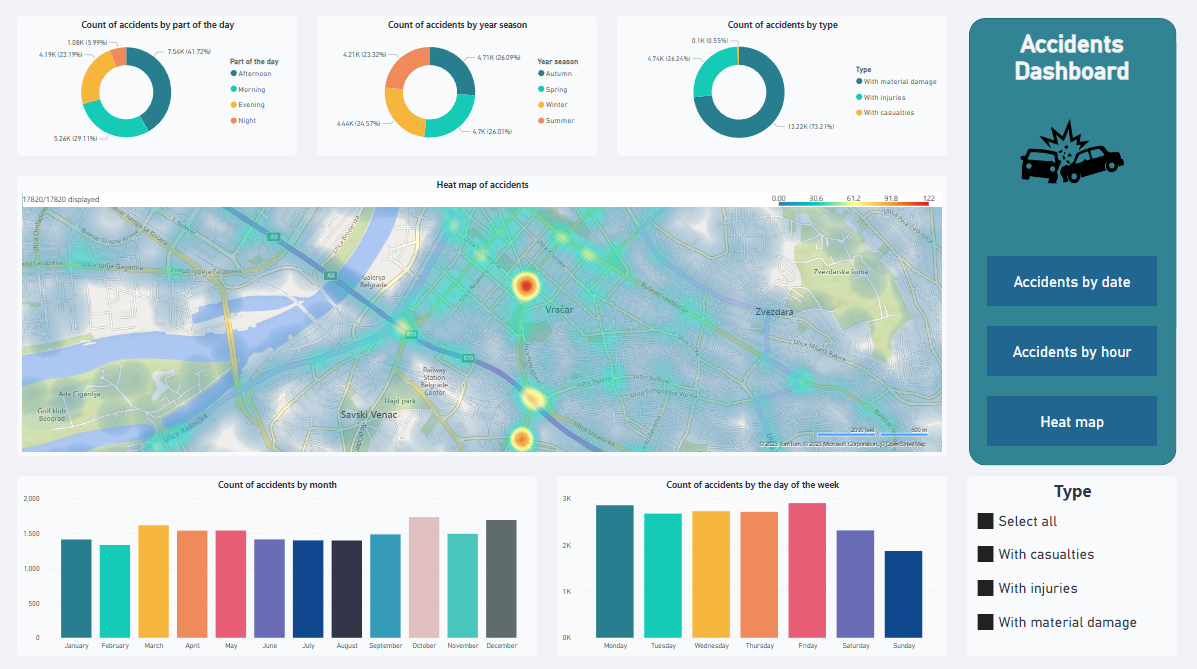

What the dashboard file says about the page in this screenshot:
{"tool":"powerbi","page":{"name":"Page 1","canvas":[1920,1080],"ordinal":0},"visuals":[{"type":"donutChart","title":"Count of accidents by type","fields":{"Y":["CountNonNull(Accidents data.Accident number)"],"Category":["Accidents data.Type"]},"box":[992,32,528,224],"z":0},{"type":"columnChart","title":"Count of accidents by the day of the week","fields":{"Category":["DateTable.DayName"],"Y":["CountNonNull(Accidents data.Accident number)"],"Series":["DateTable.DayName"]},"box":[896,768,624,288],"z":2000},{"type":"columnChart","title":"Count of accidents by month","fields":{"Y":["CountNonNull(Accidents data.Accident number)"],"Series":["DateTable.MonthName"],"Category":["DateTable.MonthName"]},"box":[32,768,832,288],"z":3000},{"type":"donutChart","title":"Count of accidents by year season","fields":{"Category":["DateTable.YearSeason"],"Y":["CountNonNull(Accidents data.Accident number)"]},"box":[512,32,448,224],"z":4000},{"type":"donutChart","title":"Count of accidents by part of the day","fields":{"Y":["CountNonNull(Accidents data.Accident number)"],"Category":["TimeTable.PartOfDay"]},"box":[32,32,448,224],"z":5000},{"type":"slicer","title":"Type","fields":{"Values":["Accidents data.Type"]},"box":[1552,768,336,288],"z":7000},{"type":"shape","box":[1552,32,336,720],"z":8000},{"type":"actionButton","box":[1584,416,272,80],"z":9000},{"type":"actionButton","box":[1584,528,272,80],"z":10000},{"type":"actionButton","box":[1584,640,272,80],"z":11000},{"type":"image","box":[1632,176,176,144],"z":12000},{"type":"textbox","box":[1568,48,304,128],"z":13000},{"type":"heatmapF244EA9EE1F34E828A80CF19B41976F8","title":"Heat map of accidents","fields":{"latitude":["Accidents data.Latitude"],"longitude":["Accidents data.Longitude"],"group":["Accidents data.Type"]},"box":[32,288,1488,448],"z":14000}]}

Visuals, with their boxes in screenshot pixels (x1, y1, x2, y2), scaled from the page's 1920x1080 canvas onto the 1197x669 screenshot:
"Count of accidents by type" donutChart: bbox(618, 20, 948, 159)
"Count of accidents by the day of the week" columnChart: bbox(559, 476, 948, 654)
"Count of accidents by month" columnChart: bbox(20, 476, 539, 654)
"Count of accidents by year season" donutChart: bbox(319, 20, 598, 159)
"Count of accidents by part of the day" donutChart: bbox(20, 20, 299, 159)
"Type" slicer: bbox(968, 476, 1177, 654)
shape: bbox(968, 20, 1177, 466)
actionButton: bbox(988, 258, 1157, 307)
actionButton: bbox(988, 327, 1157, 377)
actionButton: bbox(988, 396, 1157, 446)
image: bbox(1017, 109, 1127, 198)
textbox: bbox(978, 30, 1167, 109)
"Heat map of accidents" heatmapF244EA9EE1F34E828A80CF19B41976F8: bbox(20, 178, 948, 456)
